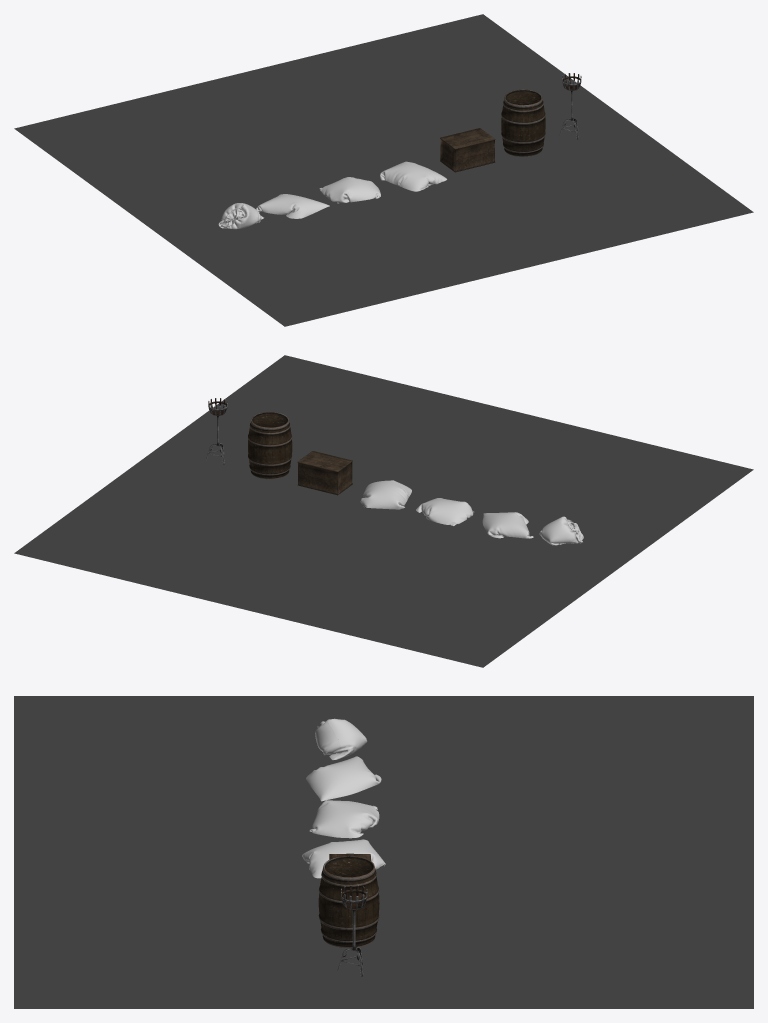
Rendered from CastleDetails_packed_final.fbx.
3 views of the same model, one above another, from view 1: azimuth 30°, elevation 25°; view 2: azimuth 150°, elevation 25°; view 3: azimuth 270°, elevation 25° (orthographic). The views are drawn at different scales.
Visible parts, largest first — view 1: Plane.001, RetopoGroup1, Box, Bag_lp_v3, Bag_lp_v4, Bag_lp_v2, Bag_lp_v1; view 2: Plane.001, RetopoGroup1, Box, Bag_lp_v3, Bag_lp_v4, Bag_lp_v2, Bag_lp_v1; view 3: Plane.001, RetopoGroup1, Bag_lp_v2, Bag_lp_v4, Bag_lp_v1, Bag_lp_v3, Base.
Part boxes in pixels (x1,y1,x2,y2): Plane.001: (14,14,753,326); RetopoGroup1: (501,89,545,156); Box: (440,128,495,172); Bag_lp_v3: (380,161,446,191); Bag_lp_v4: (319,177,380,203); Bag_lp_v2: (256,194,329,218); Bag_lp_v1: (218,203,263,229); Plane.001: (14,355,753,667); RetopoGroup1: (248,412,292,479); Box: (297,451,352,495); Bag_lp_v3: (360,480,411,509); Bag_lp_v4: (416,498,473,525); Bag_lp_v2: (482,512,533,538); Bag_lp_v1: (539,516,583,545); Plane.001: (14,696,753,1008); RetopoGroup1: (318,856,379,947); Bag_lp_v2: (306,756,381,801); Bag_lp_v4: (309,800,379,838); Bag_lp_v1: (315,718,367,759); Bag_lp_v3: (302,839,385,878); Base: (337,885,367,976).
Size of the model in its own units: 1691 by 212 by 1691.
